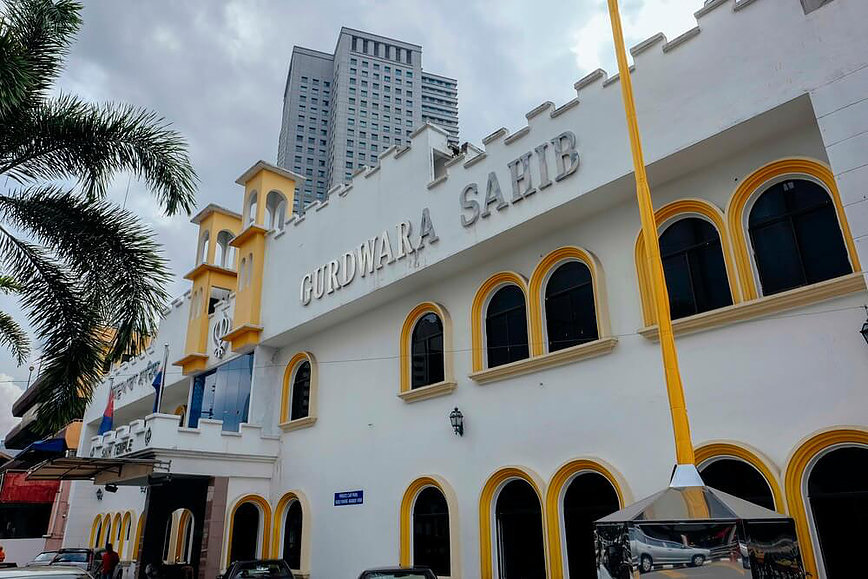Gurdwara: (93, 15, 856, 539)
